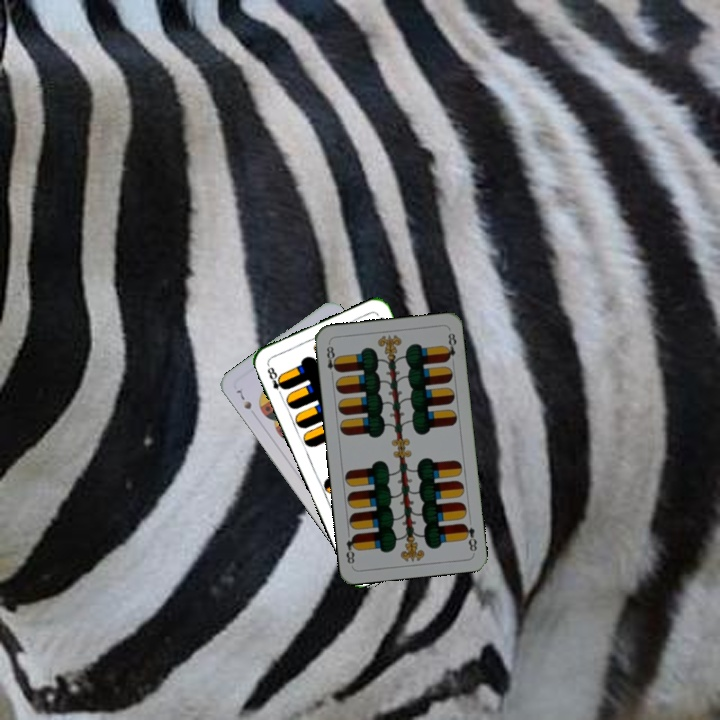E8: (263, 361, 289, 399), (323, 340, 341, 380), (459, 520, 480, 554)
S7: (232, 385, 254, 412)
